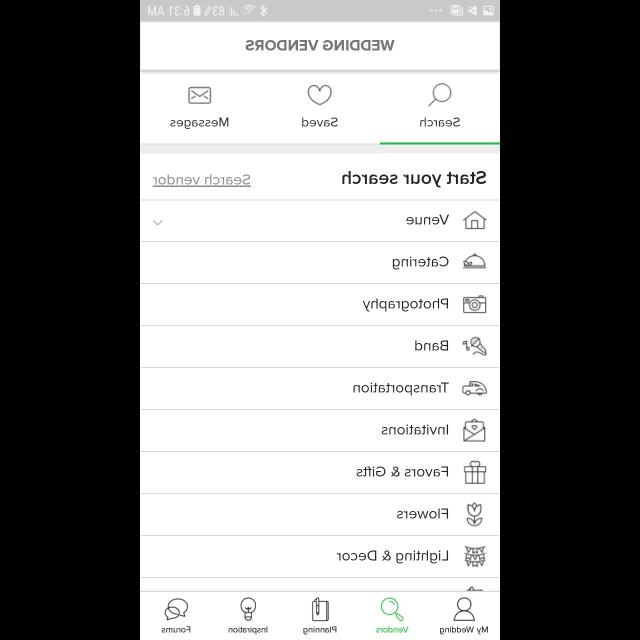icon: (462, 460, 486, 484), (462, 418, 486, 442), (428, 83, 452, 107), (381, 597, 404, 621), (164, 598, 188, 620), (453, 597, 475, 621), (308, 85, 332, 106), (463, 210, 487, 230), (462, 295, 486, 313), (312, 597, 328, 621), (188, 88, 212, 104), (152, 220, 164, 226)
image: (464, 545, 486, 567), (462, 336, 486, 356), (240, 597, 256, 621), (466, 502, 482, 526), (462, 380, 486, 396), (462, 253, 486, 269)
text: (342, 172, 486, 188), (246, 40, 394, 51), (336, 550, 448, 564), (353, 382, 449, 396), (153, 175, 251, 188), (362, 298, 448, 312), (356, 467, 448, 478), (380, 424, 448, 436), (392, 256, 448, 270), (170, 118, 228, 130), (406, 214, 449, 226), (397, 509, 448, 519), (420, 117, 460, 127), (440, 626, 488, 634), (302, 117, 338, 127), (414, 341, 448, 351), (228, 626, 268, 634), (376, 626, 408, 634), (304, 626, 336, 634), (162, 627, 190, 633)
uppertaskbar: (140, 1, 500, 22)
